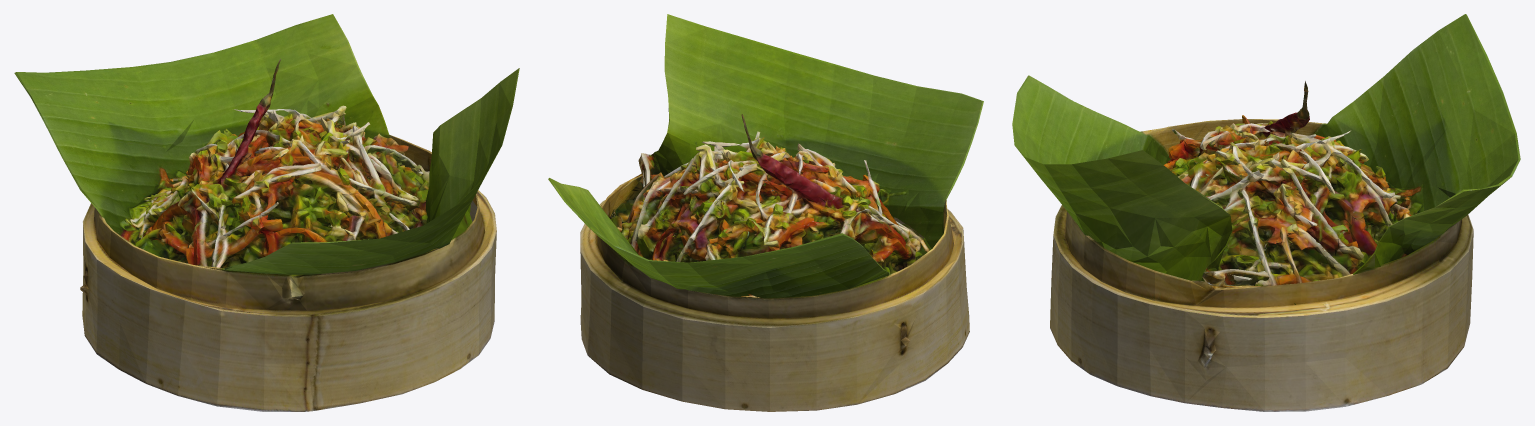
The model's file is Noodels_low.dae.
3 views of the same model, side by side, from view 1: azimuth 30°, elevation 25°; view 2: azimuth 150°, elevation 25°; view 3: azimuth 270°, elevation 25° (orthographic). The views are drawn at different scales.
Parts seen in each view (by area): view 1: baseNode; view 2: baseNode; view 3: baseNode.
Part boxes in pixels (x1=…): baseNode: x1=14, y1=14, x2=519, y2=411; baseNode: x1=548, y1=14, x2=983, y2=411; baseNode: x1=1012, y1=14, x2=1520, y2=411.
Size of the model in its own units: 5.46 by 3.71 by 6.52.
